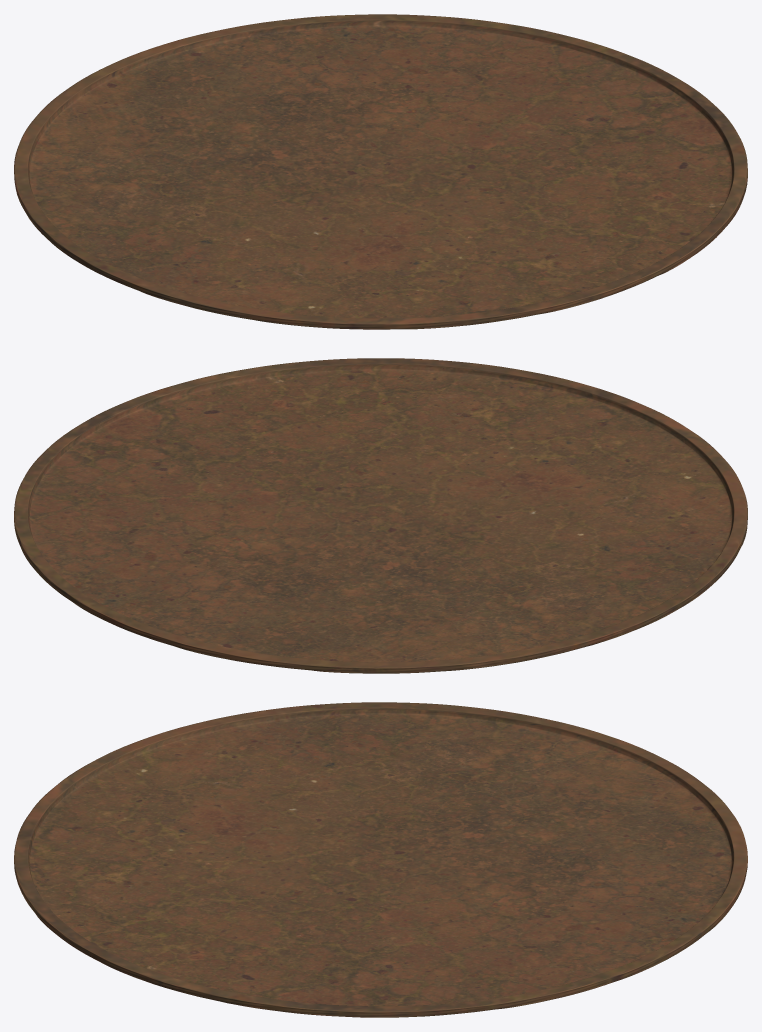
File: Ring.fbx
3 renders of one model, top to bottom at view 1: azimuth 30°, elevation 25°; view 2: azimuth 150°, elevation 25°; view 3: azimuth 270°, elevation 25°, orthographic.
Visible parts, largest first — view 1: ring; view 2: ring; view 3: ring.
Part boxes in pixels (x1,y1,x2,y2): ring: (14, 14, 747, 329); ring: (14, 358, 747, 673); ring: (14, 702, 747, 1017).
Bounding box in the file's own units: 1651 × 15.19 × 1651.
